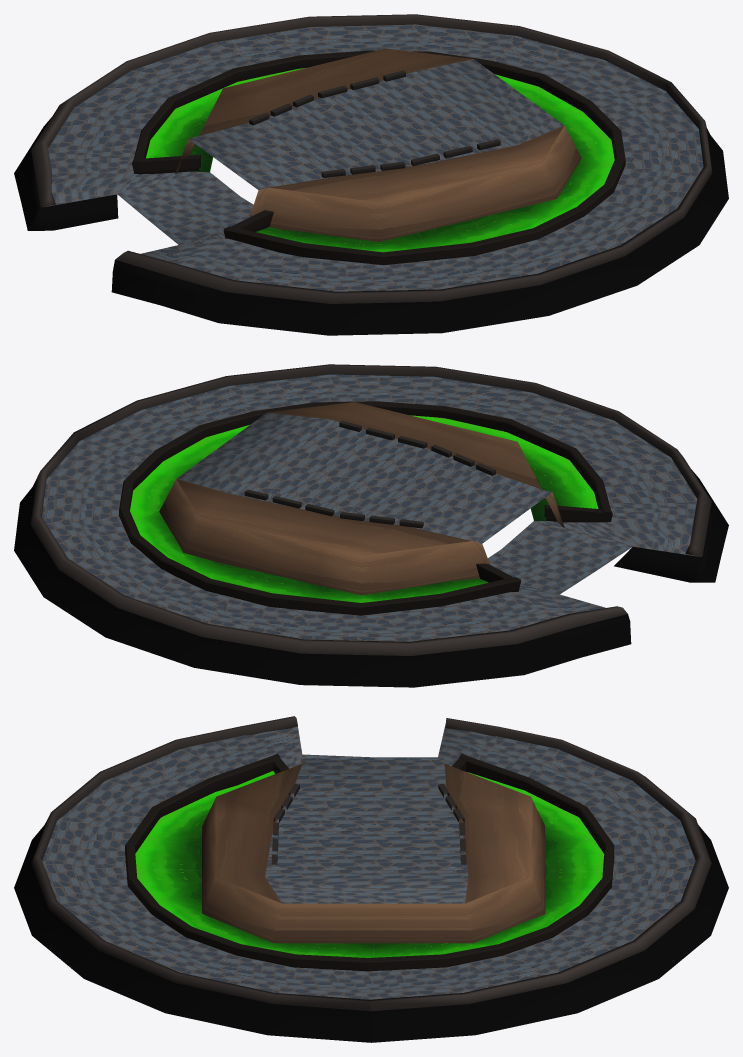
The model's file is Main_Platform.fbx.
3 renders of one model, top to bottom at view 1: azimuth 30°, elevation 25°; view 2: azimuth 150°, elevation 25°; view 3: azimuth 270°, elevation 25°, orthographic.
Parts seen in each view (by area): view 1: Main_Platform1; view 2: Main_Platform1; view 3: Main_Platform1.
Boxes of the visible parts, x1=… form: Main_Platform1: x1=14, y1=14, x2=728, y2=335; Main_Platform1: x1=14, y1=364, x2=728, y2=687; Main_Platform1: x1=14, y1=716, x2=728, y2=1042.
Bounding box in the file's own units: 6695 × 660 × 6669.
